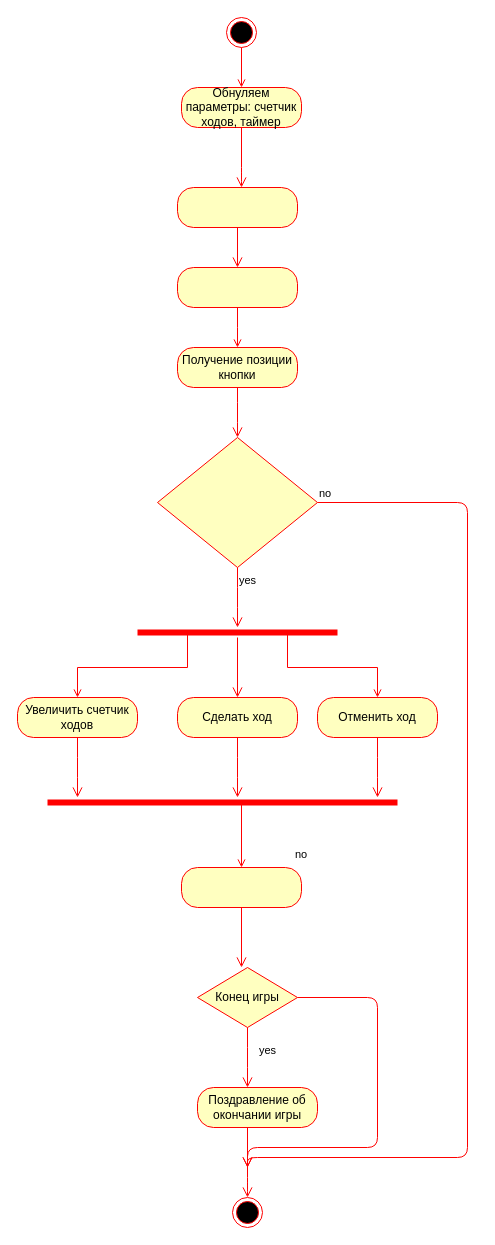
Some shapes in this 495 by 1245 pixel diagram are drawn without their labels. The centre of each missing label's shape, as x and y in pixels:
"Заполняем игровое поле цифрами от 1 до 15" goes at point 237,207.
"Обновить поле" goes at point 241,887.
"Перемешиваем" goes at point 237,287.
"Ход из позиции в пустое поле возможен?" goes at point 237,502.
